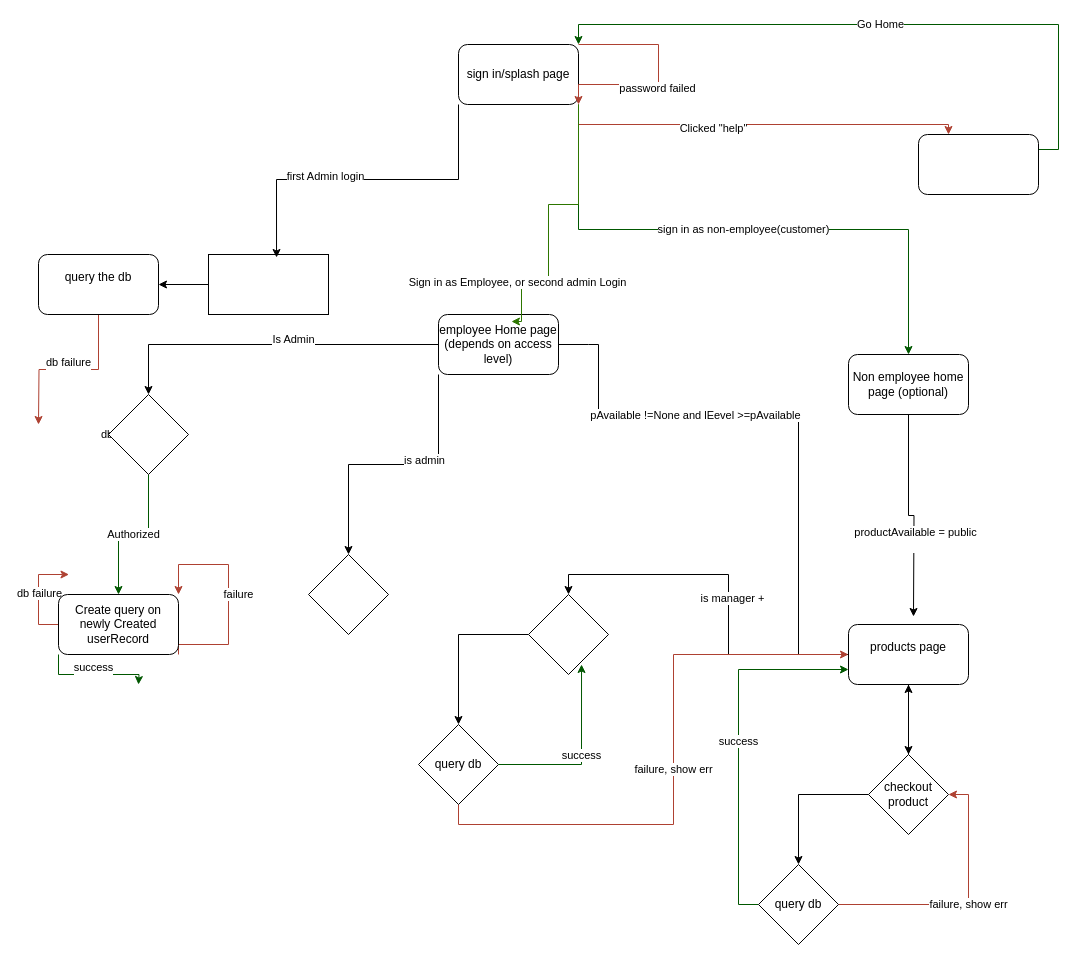
Some shapes in this 1084 by 962 pixel diagram are drawn without their labels. Each missing label, with the centre of its shape:
add product to stock: point (568, 634)
Change credentials page: point (268, 284)
Contact Admin/Help page: point (978, 164)
create new employee: point (148, 434)
update/delete employee: point (348, 594)
